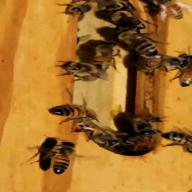Bee: (50, 56, 111, 88), (111, 31, 169, 63), (49, 139, 89, 174), (43, 102, 102, 121)
